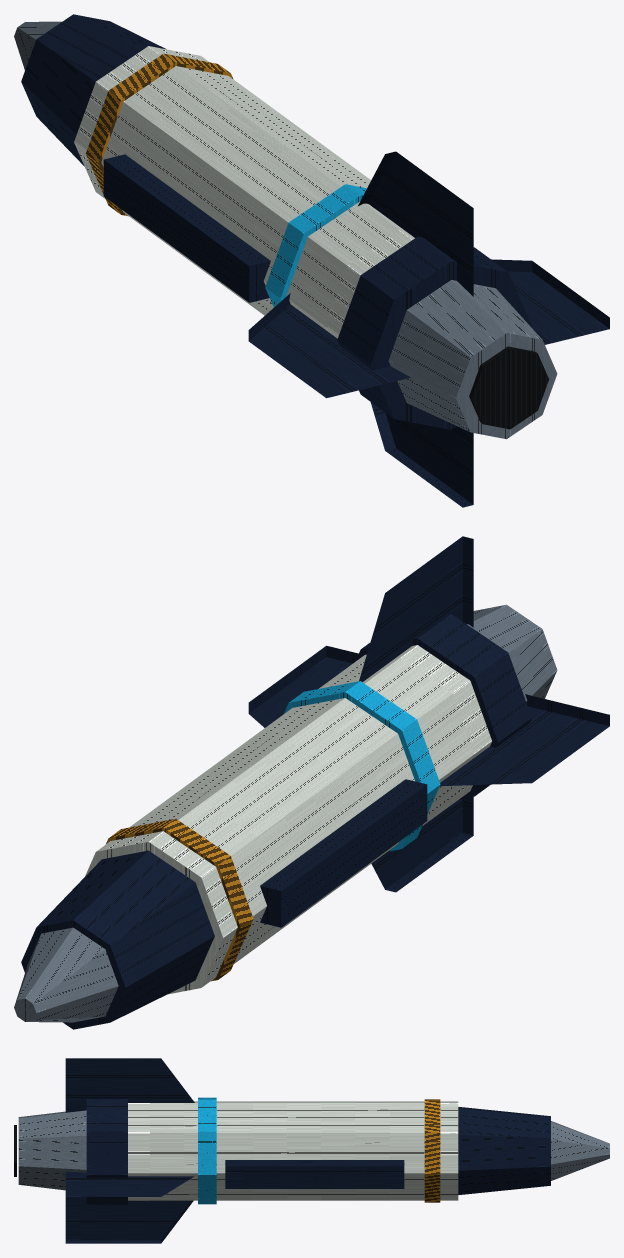
The model's file is torpedo.glb.
3 views of the same model, one above another, from view 1: azimuth 30°, elevation 25°; view 2: azimuth 150°, elevation 25°; view 3: azimuth 270°, elevation 25° (orthographic). The views are drawn at different scales.
Parts seen in each view (by area): view 1: torpedo-ordnance; view 2: torpedo-ordnance; view 3: torpedo-ordnance.
Part boxes in pixels (bbox=[...]): torpedo-ordnance: bbox=[14, 14, 609, 507]; torpedo-ordnance: bbox=[14, 536, 609, 1029]; torpedo-ordnance: bbox=[14, 1058, 609, 1243].
Bounding box in the file's own units: 1.29 × 1.29 × 3.83.
Materials: 1 (1 with a texture image).
